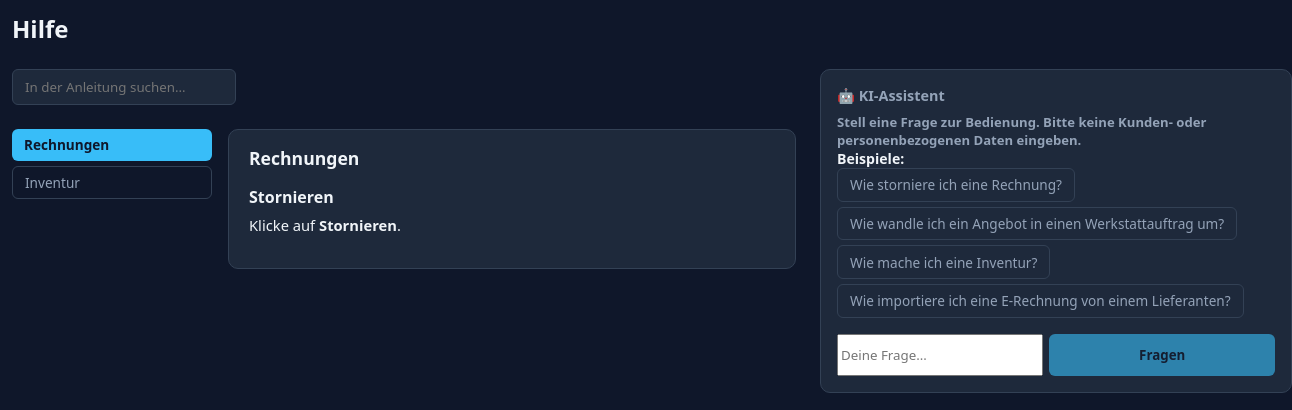
Test: Hilfe-Seite › zeigt Hinweis zum Datenschutz
expect the heading "Rechnungen" is shown: met, box left=249, top=146, right=359, bottom=170
Type "max@test.de?" into the field named "Frage an den Assistenten".
click(940, 355); type("max@test.de?")  # box left=837, top=334, right=1043, bottom=376
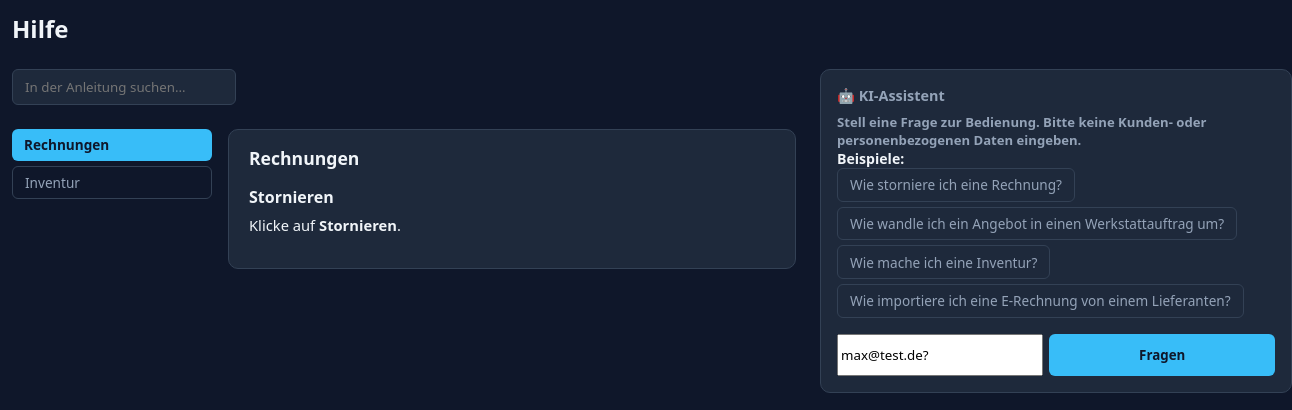
Click the button "Fragen".
click(1162, 355)  # box left=1049, top=334, right=1275, bottom=376
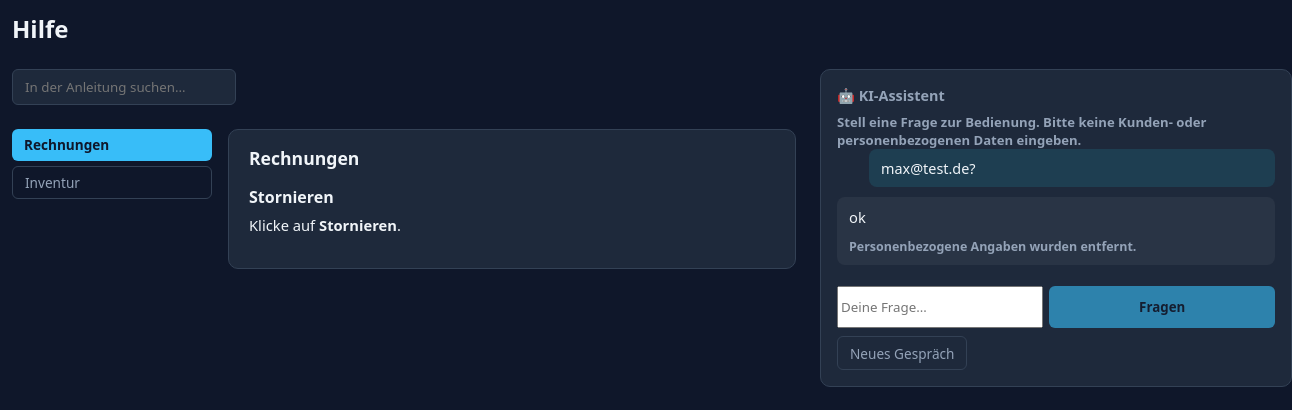
expect the text "Personenbezogene Angaben wurden entfernt." is shown: met, box left=849, top=238, right=1136, bottom=255
